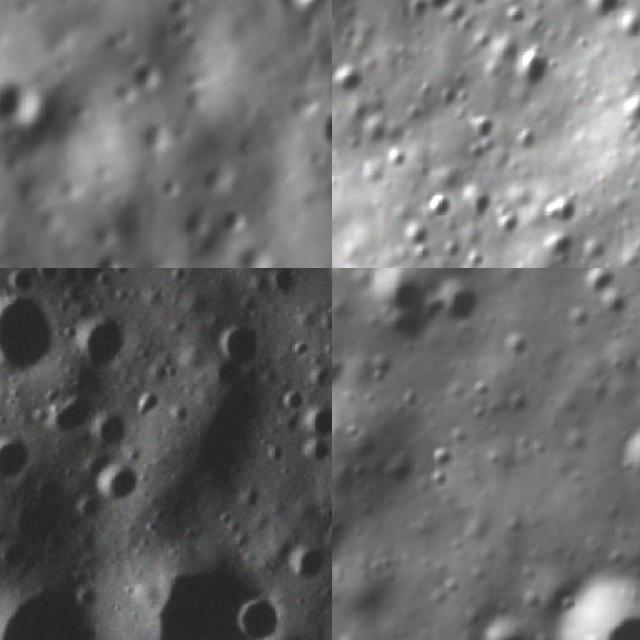crater: (119, 538, 293, 640), (0, 560, 124, 640), (526, 553, 640, 640), (356, 268, 441, 345), (0, 285, 63, 380), (200, 312, 270, 376), (67, 312, 132, 376), (0, 74, 55, 141), (40, 384, 100, 442), (432, 268, 486, 331), (88, 454, 148, 506), (603, 414, 640, 498), (231, 587, 288, 640), (467, 605, 541, 640), (81, 412, 138, 456), (120, 53, 174, 98), (0, 428, 38, 488), (285, 542, 329, 586), (596, 284, 638, 328), (417, 186, 462, 226), (423, 432, 463, 472), (208, 204, 255, 238), (571, 268, 620, 300), (296, 430, 332, 470), (332, 505, 352, 576), (298, 400, 332, 440), (66, 488, 104, 523), (263, 268, 304, 300), (272, 385, 313, 416), (0, 268, 35, 297), (313, 105, 332, 154), (24, 268, 65, 290), (89, 246, 127, 268), (332, 626, 364, 640)
